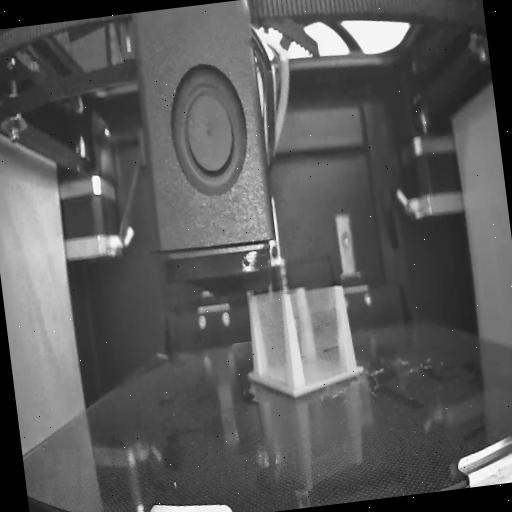stringing: (292, 287, 350, 386), (251, 286, 291, 390)
